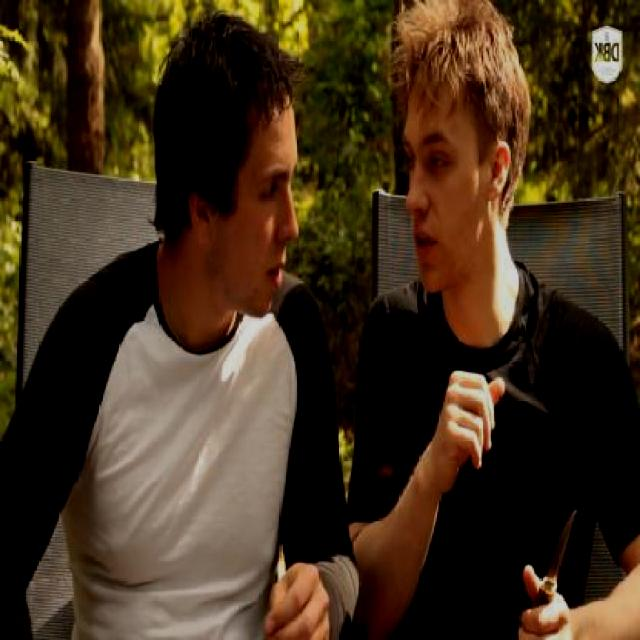knife: (514, 486, 586, 640)
